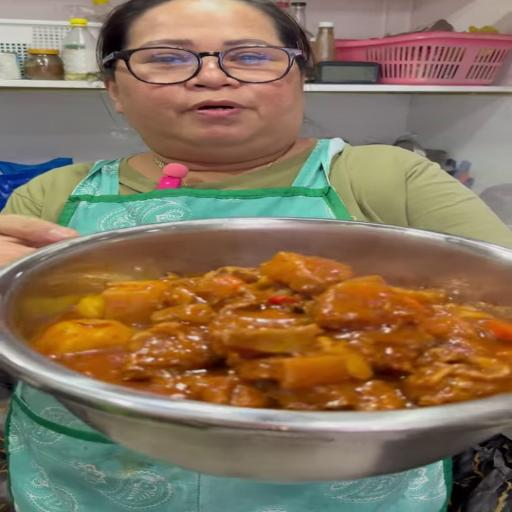pork caldereta: (28, 249, 511, 423)
